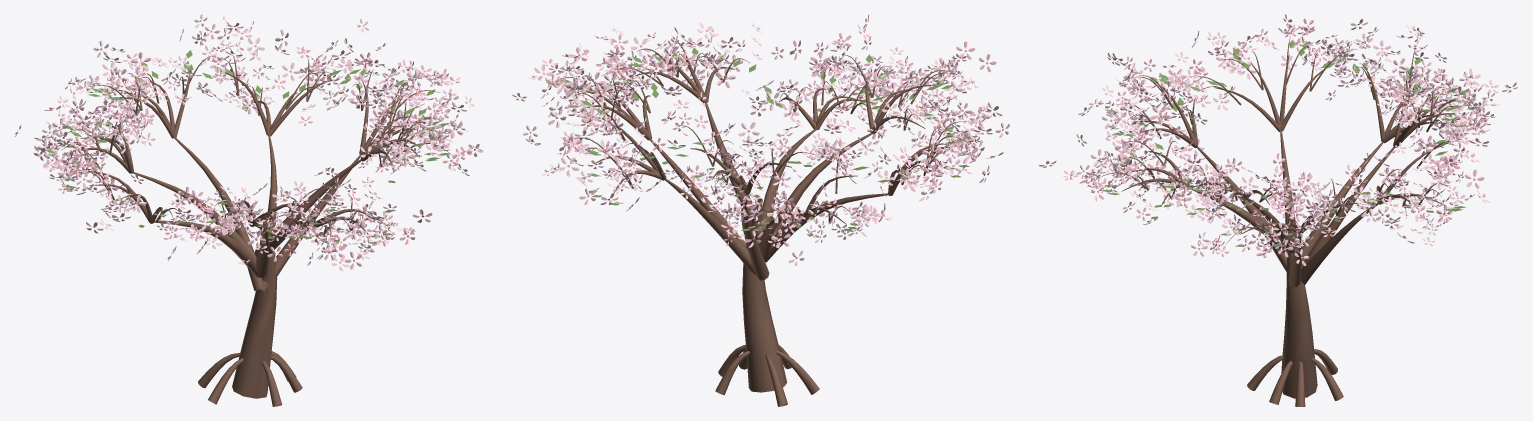
Rendered from sakura-botanical.glb.
The picture shows the model from 3 angles, left to right: view 1: azimuth 30°, elevation 25°; view 2: azimuth 150°, elevation 25°; view 3: azimuth 270°, elevation 25°; orthographic projection. The views are drawn at different scales.
Visible parts, largest first — view 1: Sakura_Blossoms, Sakura_Bark, Sakura_Leaves; view 2: Sakura_Blossoms, Sakura_Bark, Sakura_Leaves; view 3: Sakura_Blossoms, Sakura_Bark, Sakura_Leaves.
Boxes of the visible parts, left/top/right/bottom form: Sakura_Blossoms: left=15, top=14, right=483, bottom=271; Sakura_Bark: left=61, top=46, right=451, bottom=406; Sakura_Leaves: left=45, top=50, right=450, bottom=243; Sakura_Blossoms: left=512, top=14, right=1009, bottom=265; Sakura_Bark: left=561, top=43, right=980, bottom=406; Sakura_Leaves: left=546, top=47, right=978, bottom=236; Sakura_Blossoms: left=1039, top=14, right=1517, bottom=265; Sakura_Bark: left=1097, top=39, right=1473, bottom=406; Sakura_Leaves: left=1101, top=41, right=1479, bottom=246.
Size of the model in its own units: 6.09 by 4.57 by 6.14.
